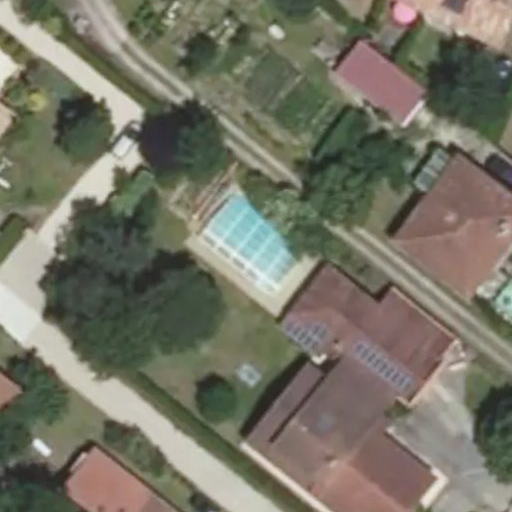pool: (207, 234, 305, 249)
